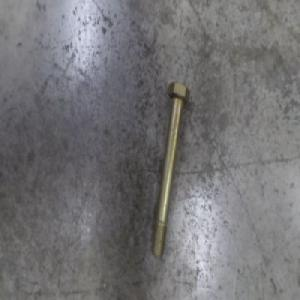Bolt: (150, 79, 191, 260)
